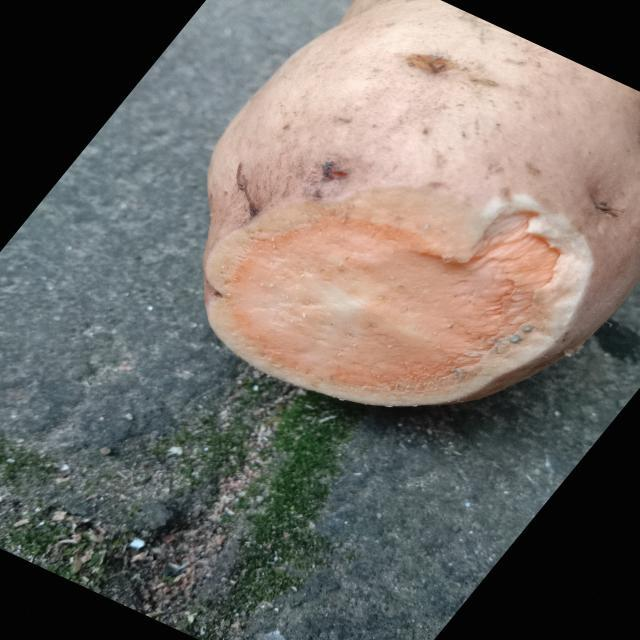Healthy Sweet Potato: (205, 188, 593, 405)
